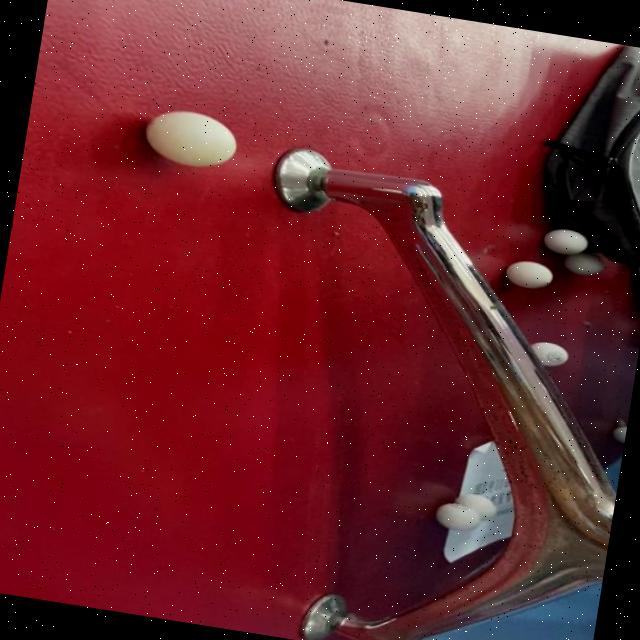ping-pong-ball: (137, 102, 240, 172), (502, 255, 556, 292), (430, 498, 484, 534), (540, 223, 590, 258), (521, 336, 571, 371), (448, 489, 500, 522), (558, 248, 609, 280), (610, 422, 628, 444)
